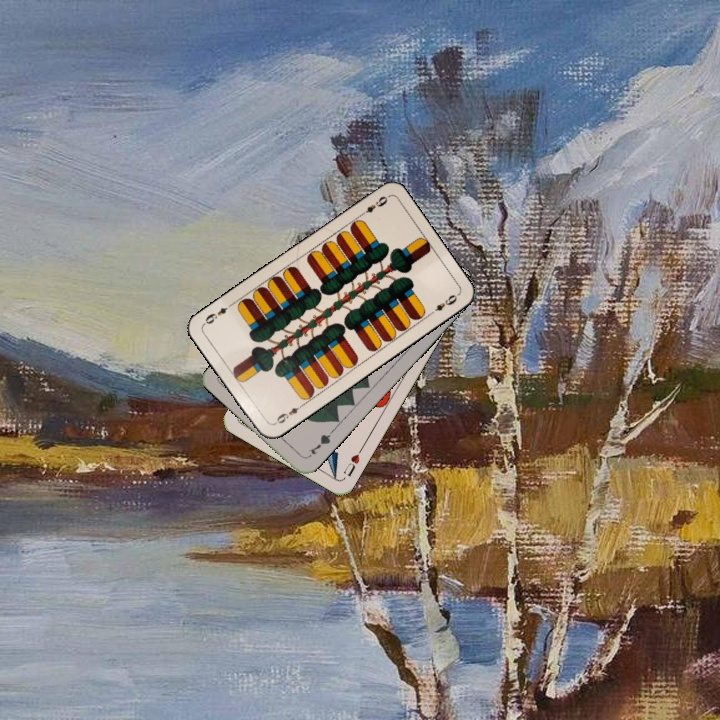E9: (355, 192, 390, 220), (270, 400, 306, 427)
G7: (305, 427, 335, 457)
HU: (339, 444, 365, 479)
